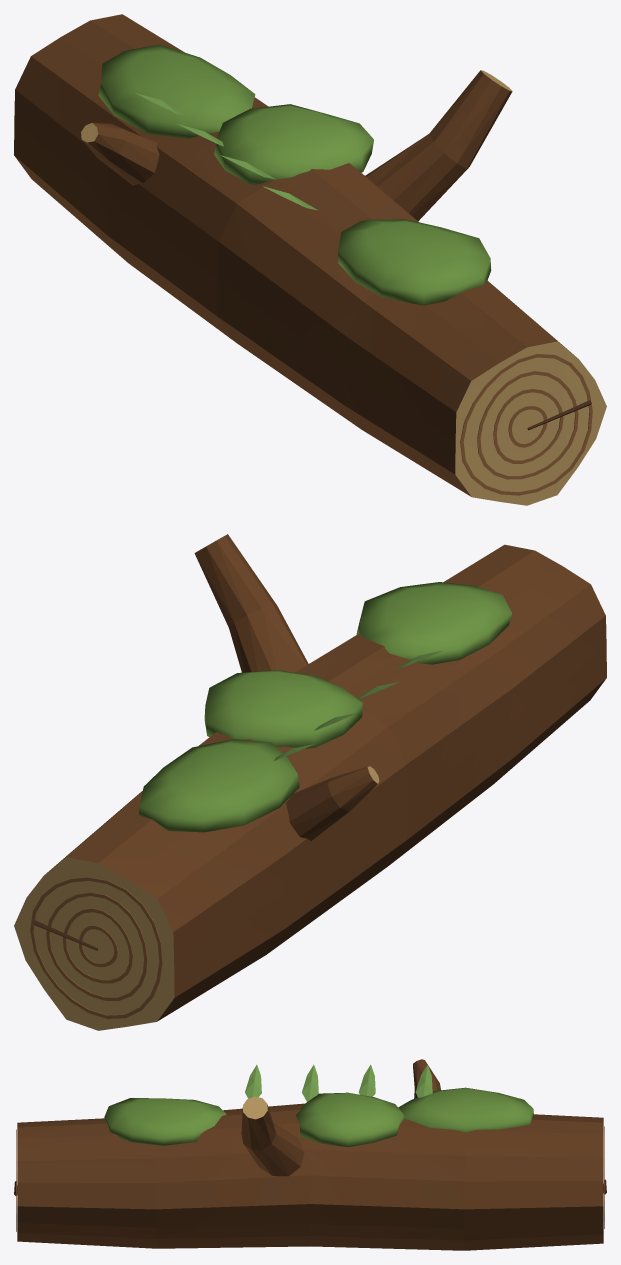
The model's file is Prop_Forest_FallenLog_001.glb.
3 renders of one model, top to bottom at view 1: azimuth 30°, elevation 25°; view 2: azimuth 150°, elevation 25°; view 3: azimuth 270°, elevation 25°, orthographic. The views are drawn at different scales.
Visible parts, largest first — view 1: FR_FallenLog_Body; view 2: FR_FallenLog_Body; view 3: FR_FallenLog_Body.
Boxes of the visible parts, left/top/right/bottom form: FR_FallenLog_Body: left=14, top=14, right=606, bottom=505; FR_FallenLog_Body: left=14, top=534, right=606, bottom=1030; FR_FallenLog_Body: left=14, top=1059, right=606, bottom=1250.
Size of the model in its own units: 1.37 by 1.21 by 3.44.
